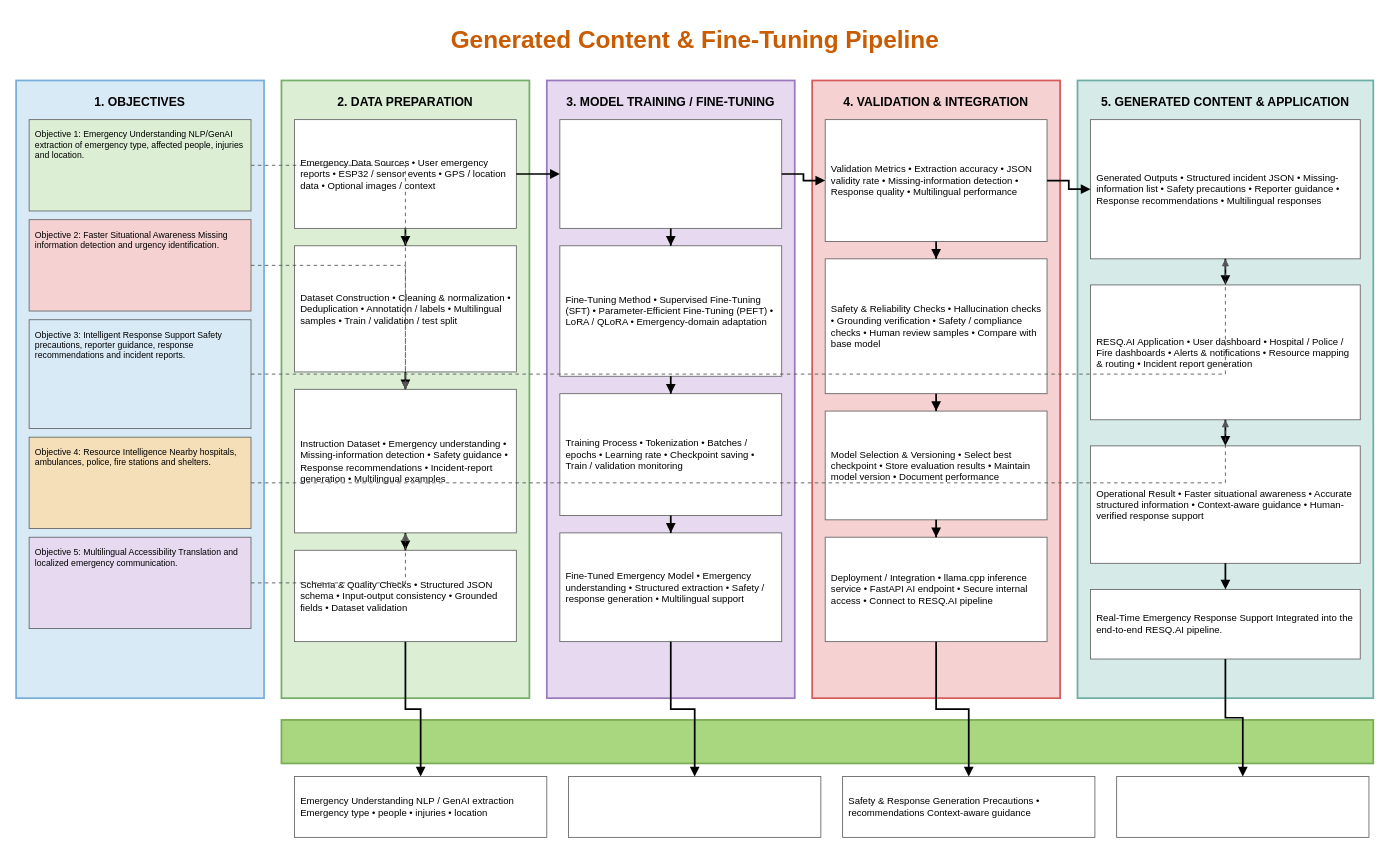
Some shapes in this 1389 by 853 pixel diagram are drawn without their labels. Each missing label, with the centre of its shape:
Base Model Qwen2.5-3B-Instruct GGUF / Q4_K_M Pretrained transformer LLM: point (670, 173)
DEPLOYED INFERENCE IN RESQ.AI SYSTEM: point (827, 741)
Integrated Emergency Response End-to-end pipeline Web / mobile dashboards: point (1242, 806)
Multilingual Support Translation & localisation Multiple emergency languages: point (694, 806)
